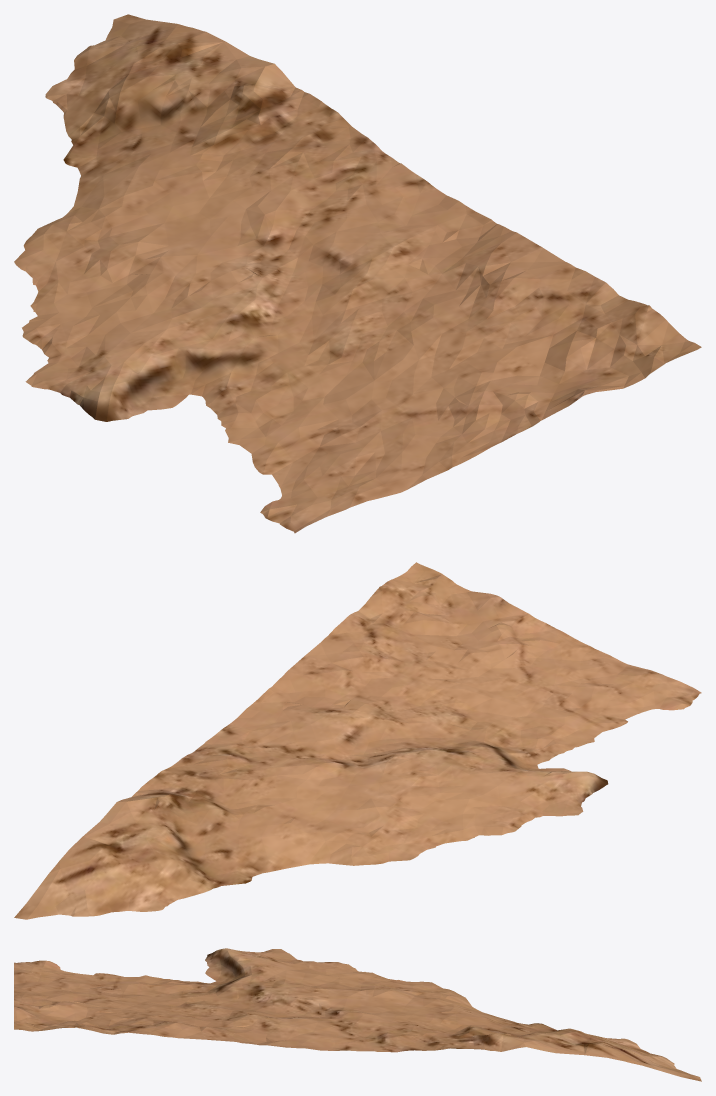
3 views of the same model, one above another, from view 1: azimuth 30°, elevation 25°; view 2: azimuth 150°, elevation 25°; view 3: azimuth 270°, elevation 25° (orthographic). The views are drawn at different scales.
Size of the model in its own units: 0.3113 by 0.0593 by 0.6811.
1 material, 1 textured.
